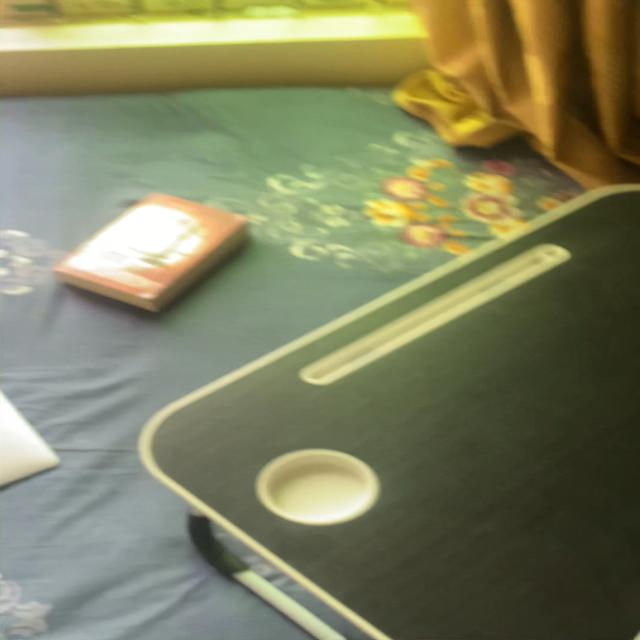book: (39, 187, 252, 310)
table: (156, 173, 636, 640)
